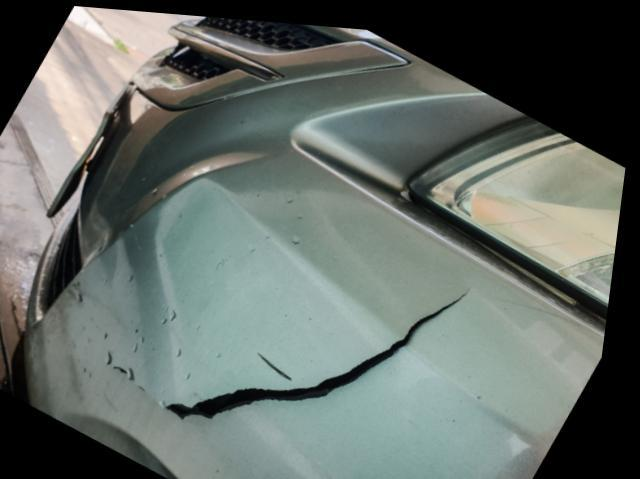crack: (172, 277, 479, 418)
